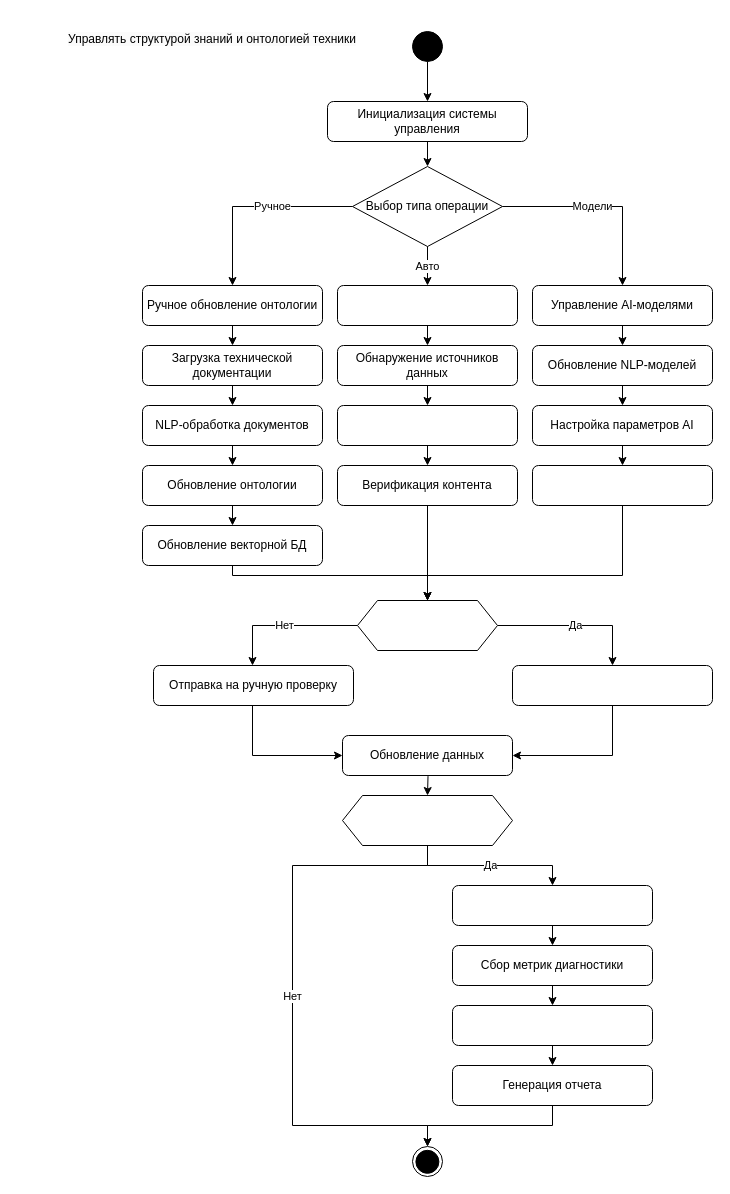
The diagram is 730 pixels wide and 1194 high, and some of its shapes have lost their labels. Here are the shapes that lost their labels. From the top down, the centre of each, then its label:
the point at 427,305: Автоматическое обогащение
the point at 427,425: Извлечение знаний
the point at 622,485: Валидация моделей
the point at 427,625: Качество данных приемлемо?
the point at 612,685: Интеграция в основную онтологию
the point at 427,820: Продолжить улучшение системы?
the point at 552,905: Анализ эффективности системы
the point at 552,1025: Выявление проблемных паттернов
